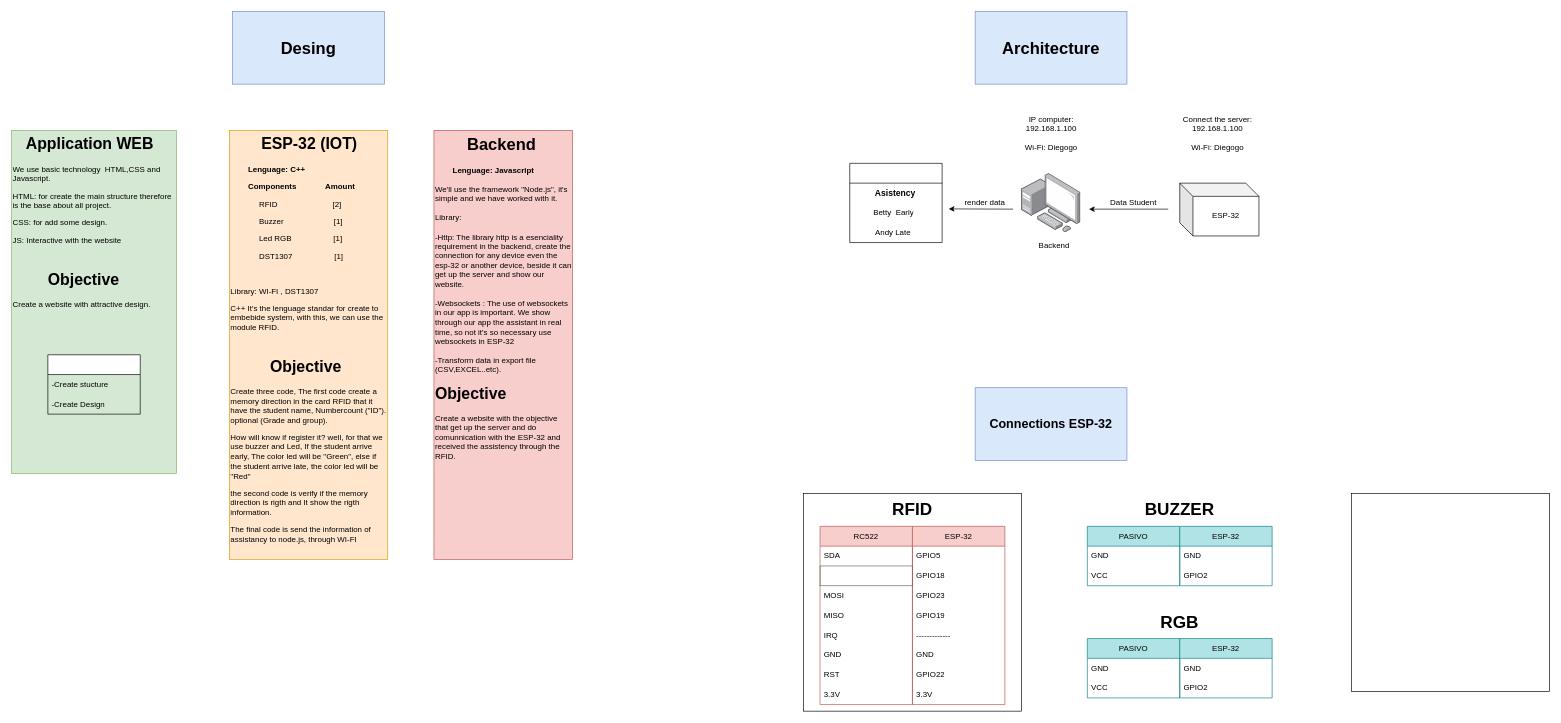
Image size: 1561x723. Some labels were removed from this diagram. The box of each missing label's shape, as (x1, y1, x2, y2) in pixels:
SCK: (819, 565, 912, 586)
Task Frontend: (47, 354, 140, 414)
WebSite: (849, 163, 942, 243)
